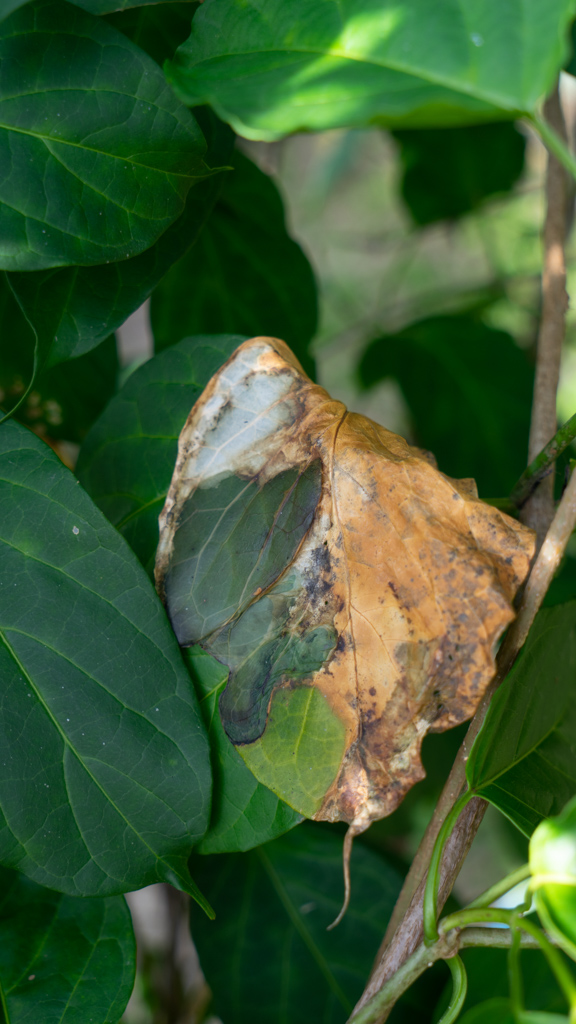Rust: (146, 334, 538, 870)
